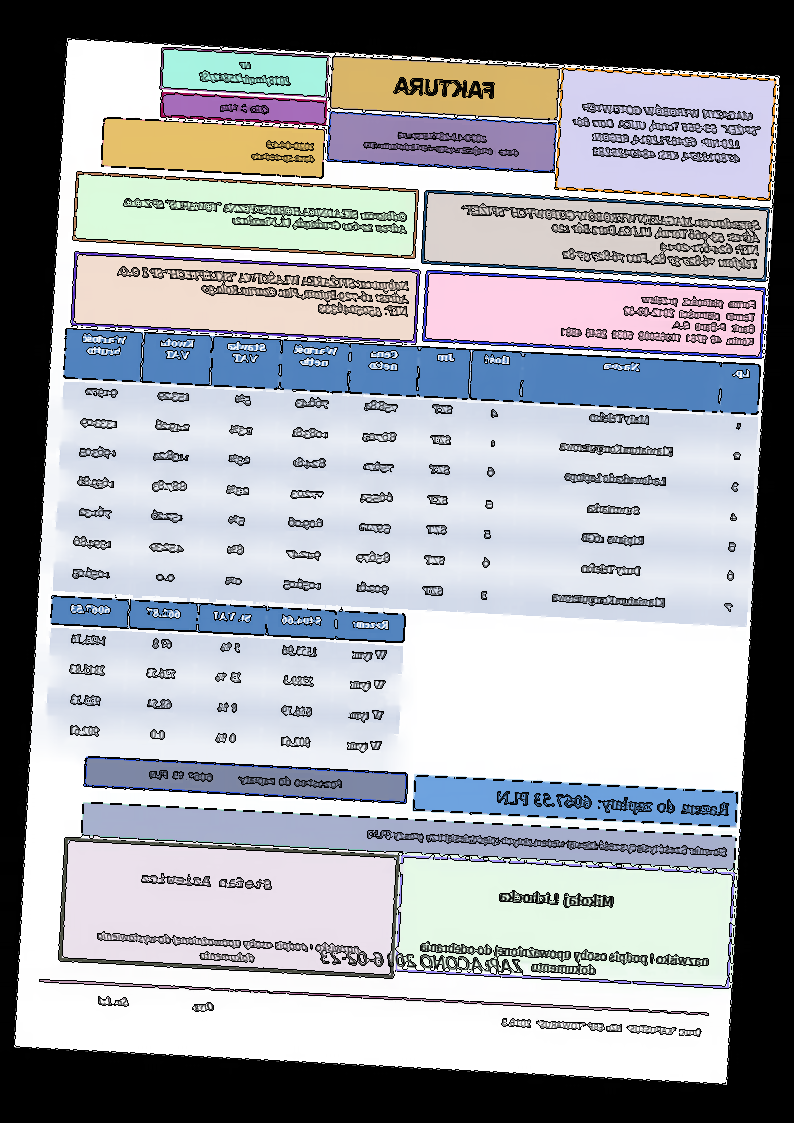Table: (50, 326, 763, 630), (44, 594, 408, 767)
TextBox: (456, 198, 763, 275), (112, 261, 412, 321), (569, 98, 764, 168), (366, 824, 729, 860), (121, 193, 411, 236), (558, 287, 759, 349), (420, 941, 712, 983), (94, 926, 361, 970), (493, 786, 733, 822), (314, 945, 524, 980), (361, 125, 523, 161), (500, 1013, 705, 1040), (148, 767, 345, 793), (496, 884, 617, 911), (198, 57, 294, 91), (138, 869, 274, 893), (391, 75, 498, 102), (94, 992, 217, 1013), (249, 135, 319, 170), (218, 99, 271, 118)
